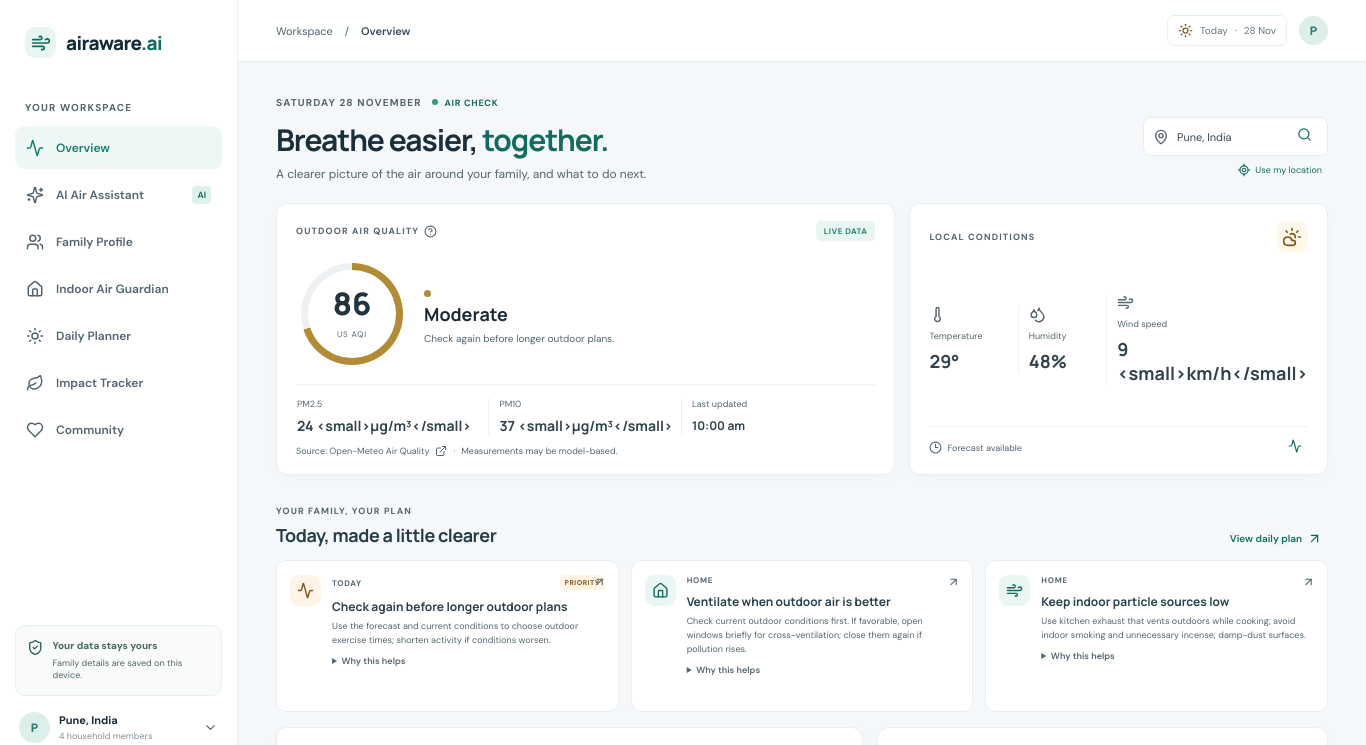
Test: AirAware application › persists household switches locally and exposes their state to assistive tech
Click the button "Family Profile" at {"x": 118, "y": 242}, box [15,220,222,263]
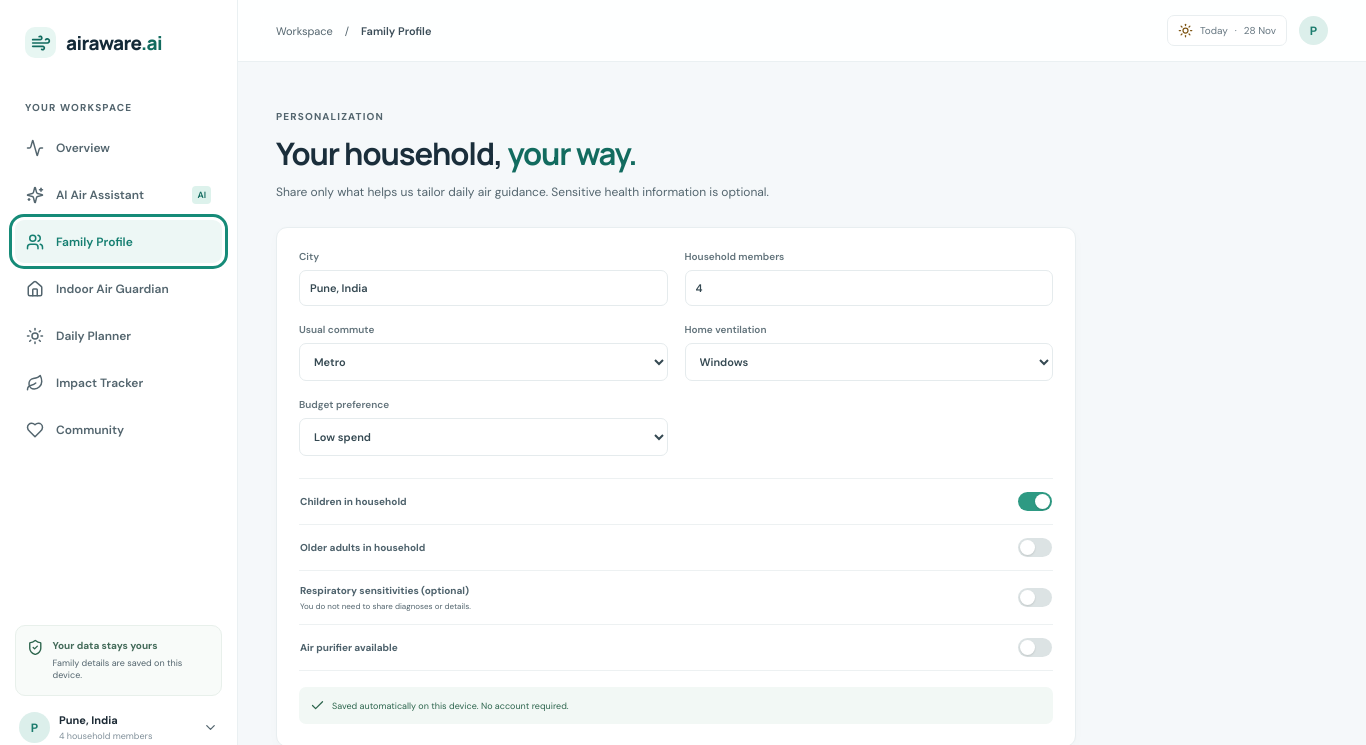
Click the switch named "Children in household" at {"x": 1035, "y": 502}, box [1018,492,1052,511]
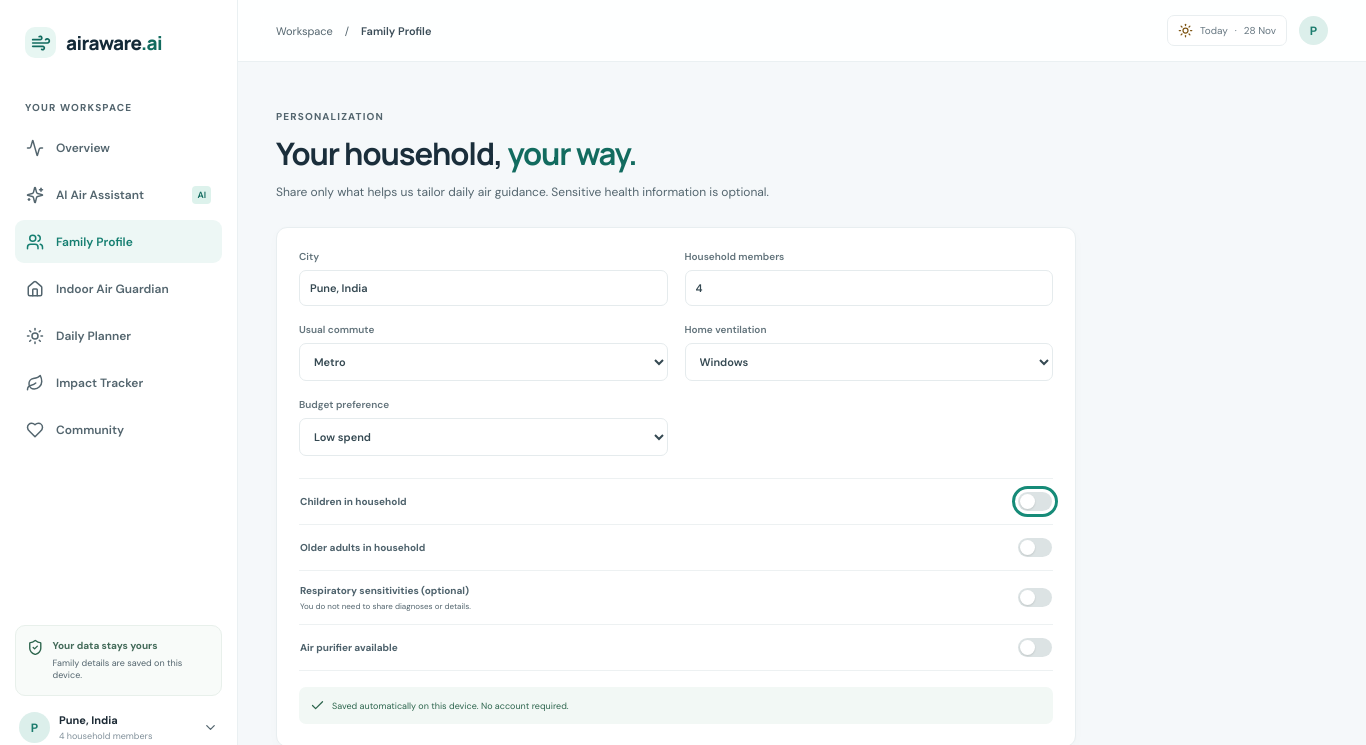
Result: the switch named "Children in household" is not checked at [1018,492,1052,511]
